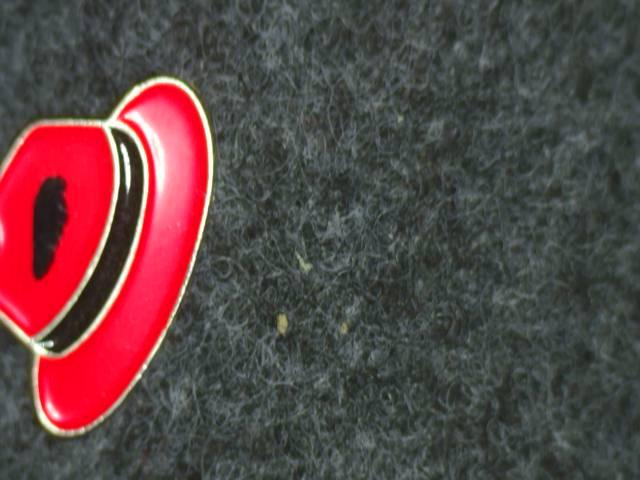Red-Hat: (0, 60, 224, 480)
Scratch: (24, 156, 86, 296)
